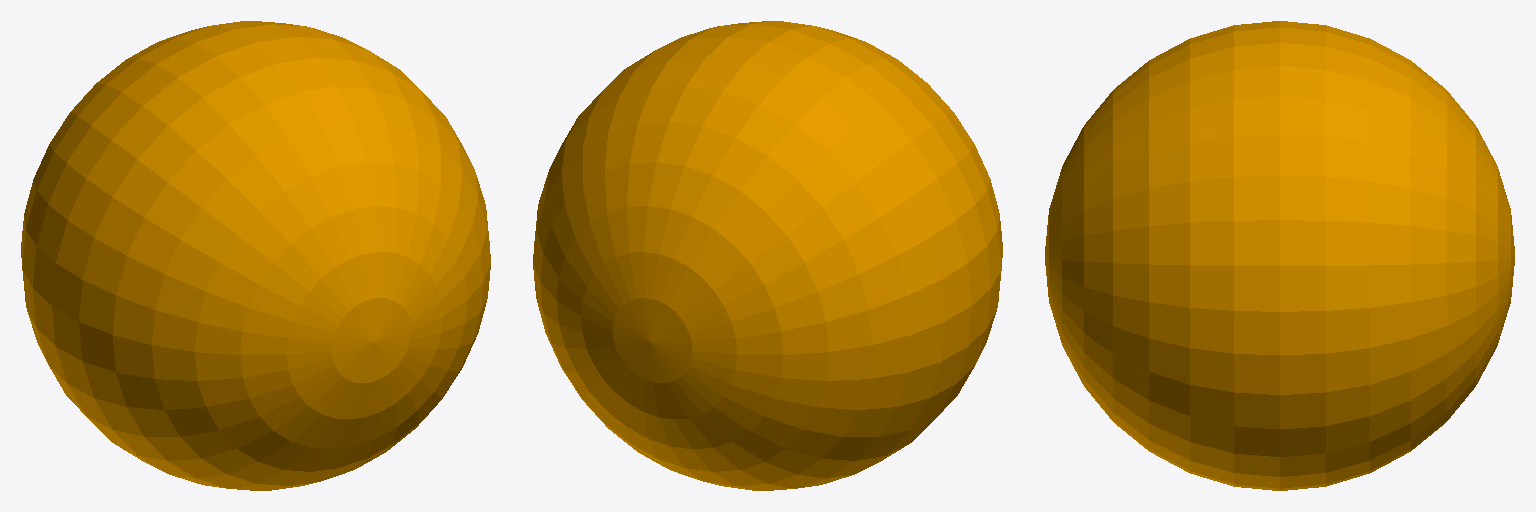
robot.urdf — init:
<?xml version='1.0' encoding='utf-8'?>
<robot name="init">
    <link name="link_0">
        <inertial>
            <mass value="1.0" /><origin rpy="0 0 0" xyz="0.000000 0.000000 0.000000" />
            <inertia ixx="1.0" ixy="0.0" ixz="0.0" iyy="1.0" iyz="0.0" izz="1.0" />
        </inertial>
        <visual>
            <origin rpy="0 0 0" xyz="0.000000 0.000000 0.000000" />
            <geometry>
                <mesh filename="./clothHuman/mesh/sphere_0.5.obj" />
            </geometry>
        </visual>
    </link>
</robot>

--- Facts derived from the render (not from the file) ---
The picture shows the robot from 3 angles, left to right: view 1: azimuth 30°, elevation 25°; view 2: azimuth 150°, elevation 25°; view 3: azimuth 270°, elevation 25°; orthographic projection.
Robot: init — 1 links, 0 joints (none); root link link_0; default pose: every joint at zero.
Links seen in each view (by area): view 1: link_0; view 2: link_0; view 3: link_0.
Boxes of the visible links, left/top/right/bottom form: link_0: left=21, top=21, right=490, bottom=490; link_0: left=533, top=21, right=1002, bottom=490; link_0: left=1045, top=21, right=1514, bottom=490.
Size in the robot's own frame: 1 by 1 by 1 metres.
Meshes: 1 distinct files referenced, 1 mesh visuals loaded (1 OBJ).